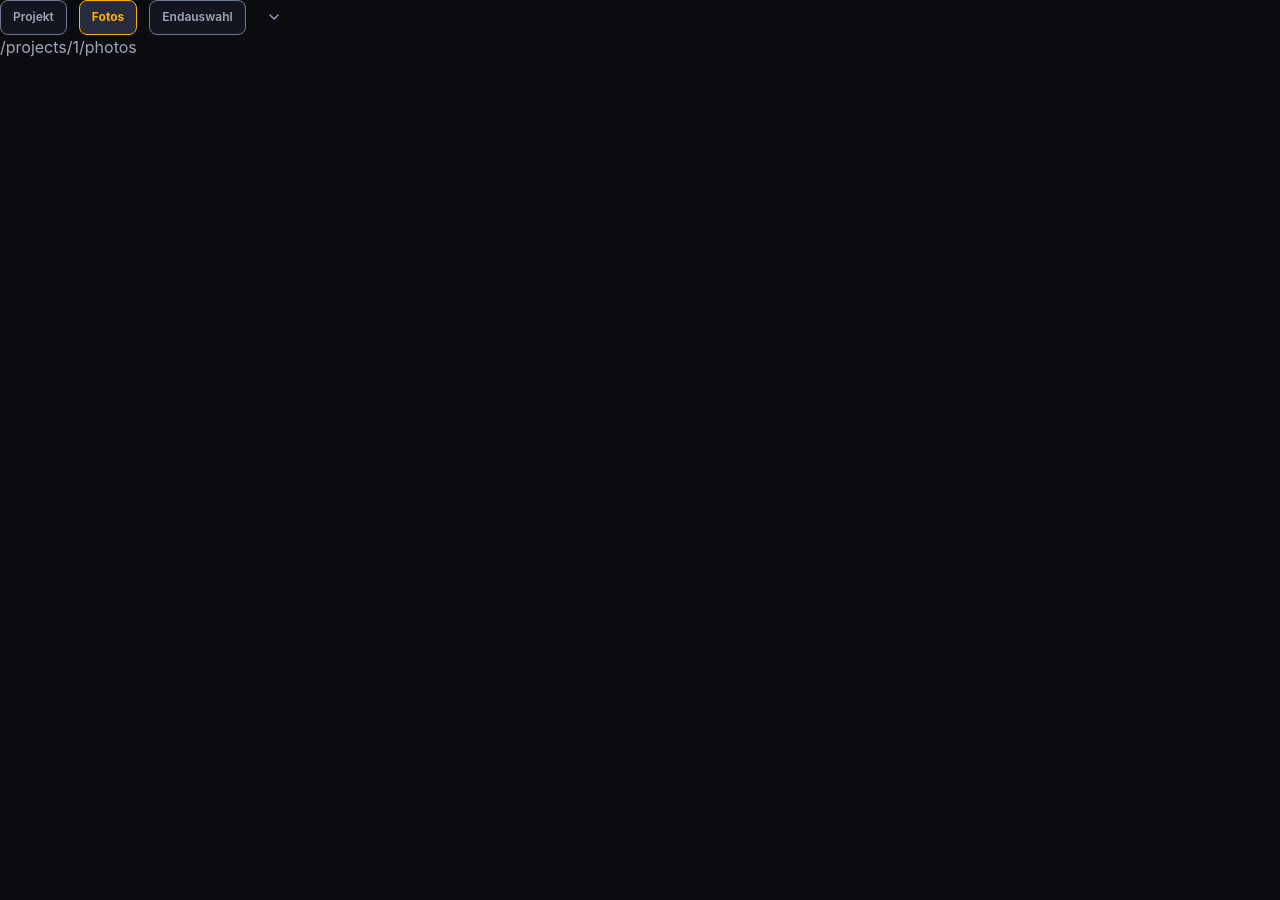
Test case: ProjectNav - Panel des Nebenbereichs › navigiert bei Auswahl von "Statistik" UND schliesst das Panel (AK7)
The image size is (1280, 900).
Click the button named "Projektbereiche" at (274, 17), box [258, 1, 290, 33]
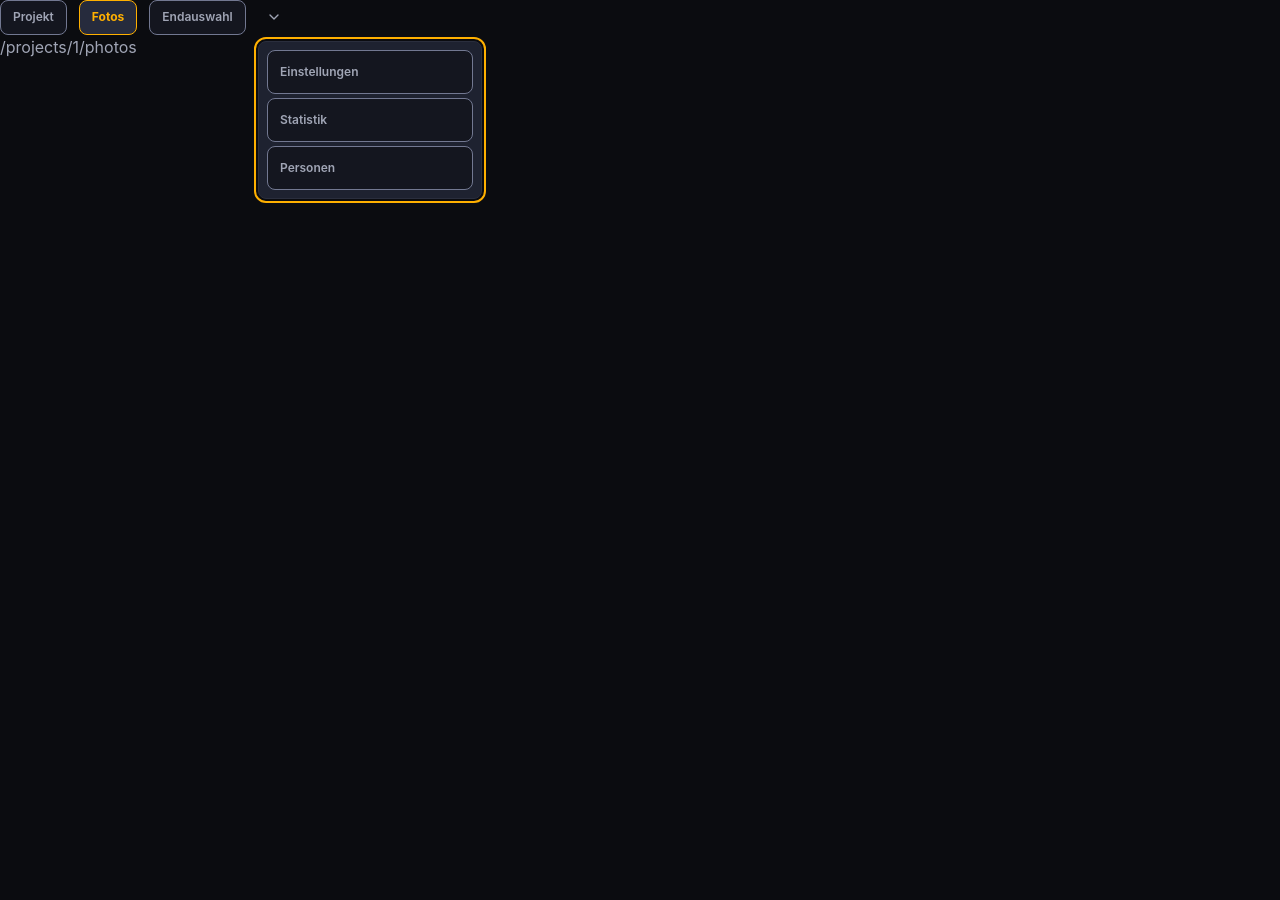
Click the link "Statistik" at (370, 120), box [267, 98, 473, 142]
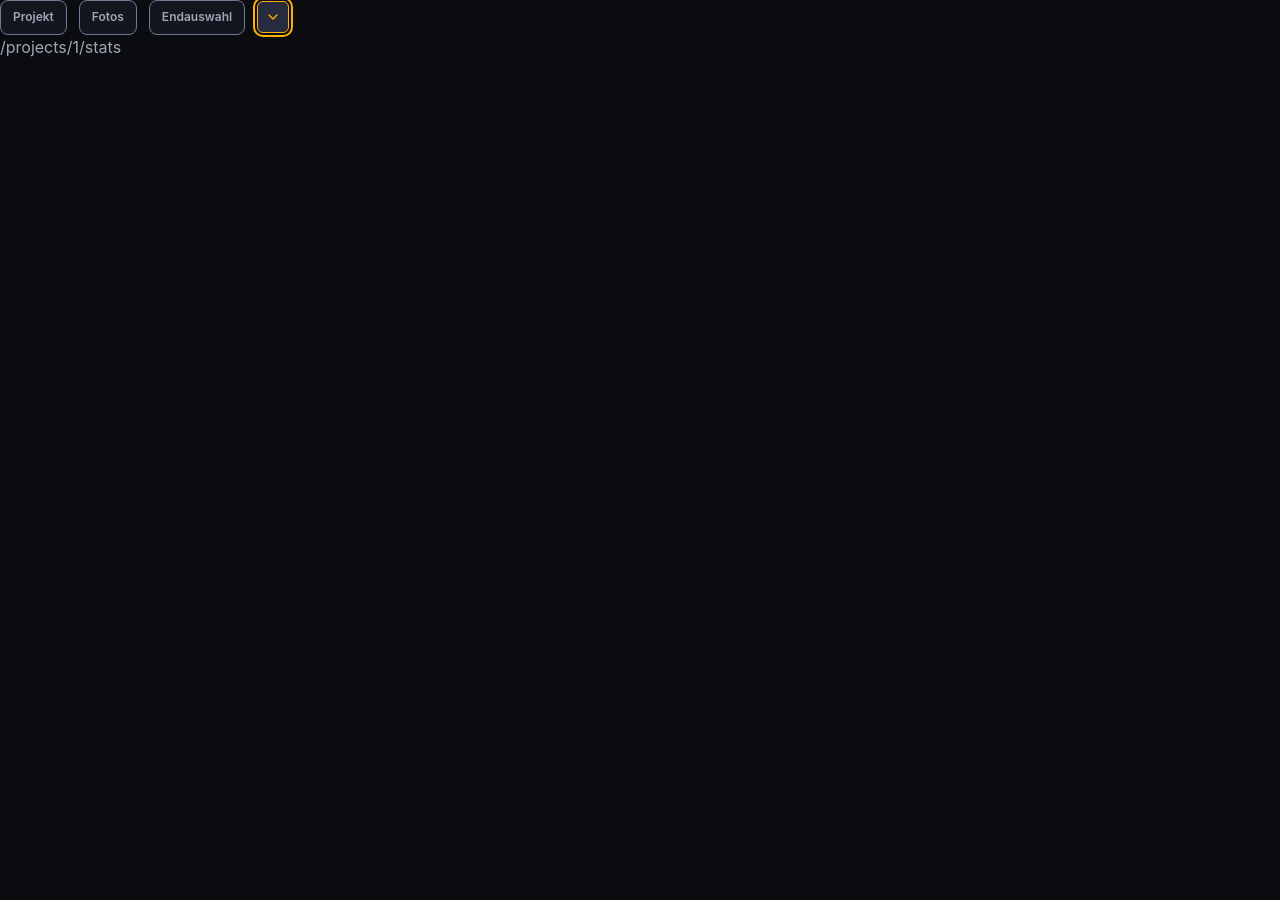
Now the dialog is gone
Now the text with test id "pathname" reads "/projects/1/stats", box [0, 37, 121, 57]
